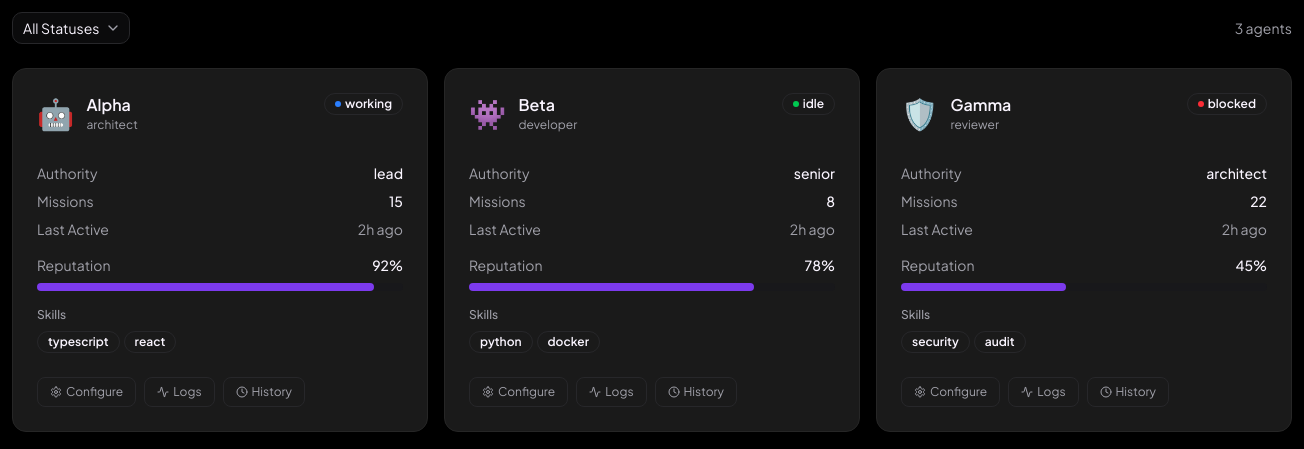
Test case: AgentsPage › shows status filter options when select is opened
What coordinates should you click on to do the following:
click the text "All Statuses"
I would click on:
 (61, 28)
Its box is [23, 18, 100, 38].
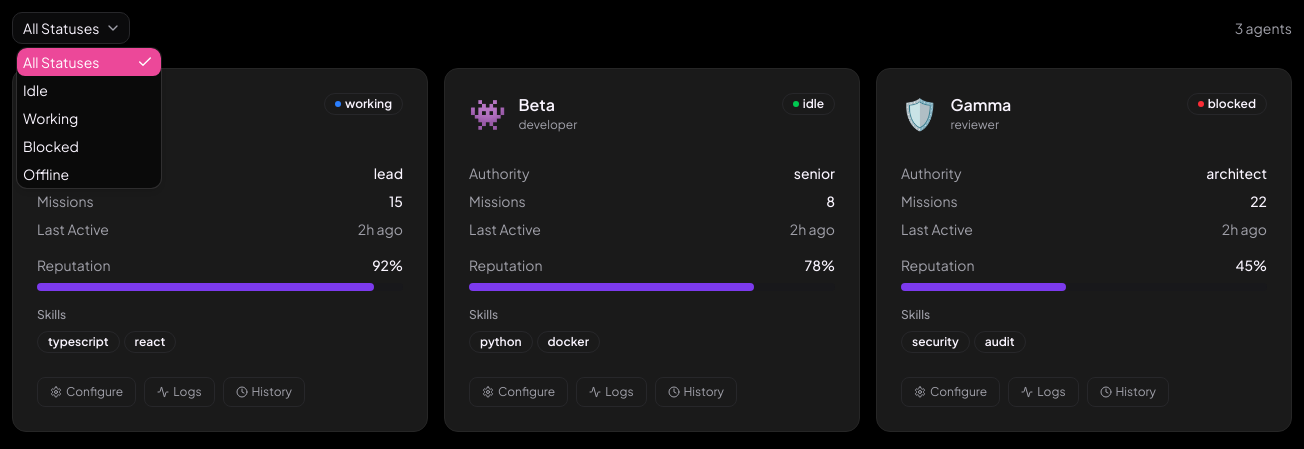
Check: the text "Idle" is shown, box [23, 81, 48, 99]
Check: the text "Working" is shown, box [23, 109, 78, 127]
Check: the text "Blocked" is shown, box [23, 137, 79, 155]
